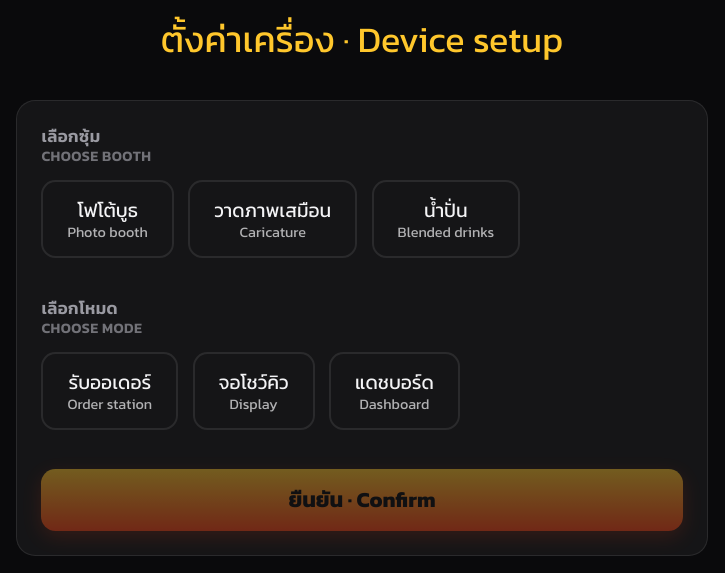
Test: confirm is disabled until a valid choice is made
Expected: the button "ยืนยัน · Confirm" is disabled, top-left (41, 469), bottom-right (683, 531)
Click the button "น้ำปั่น Blended drinks" at (446, 219), box top-left (372, 180), bottom-right (520, 258)
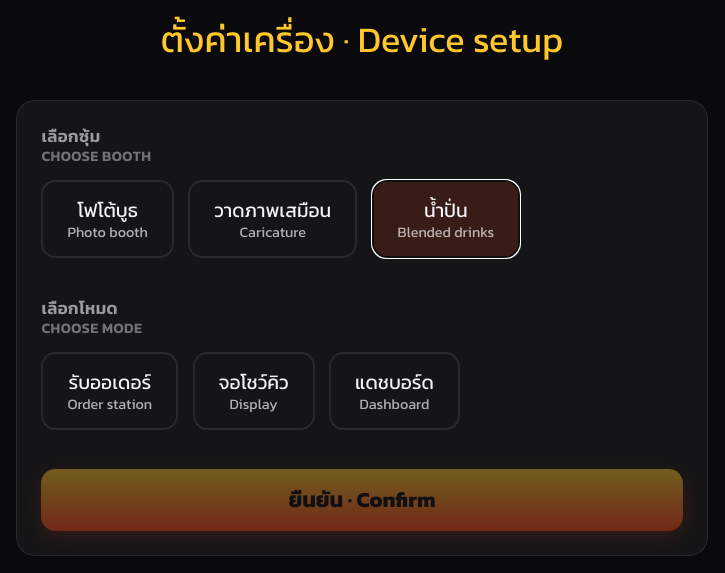
Click the button "จอโชว์คิว Display" at (254, 391), box top-left (193, 352), bottom-right (315, 430)
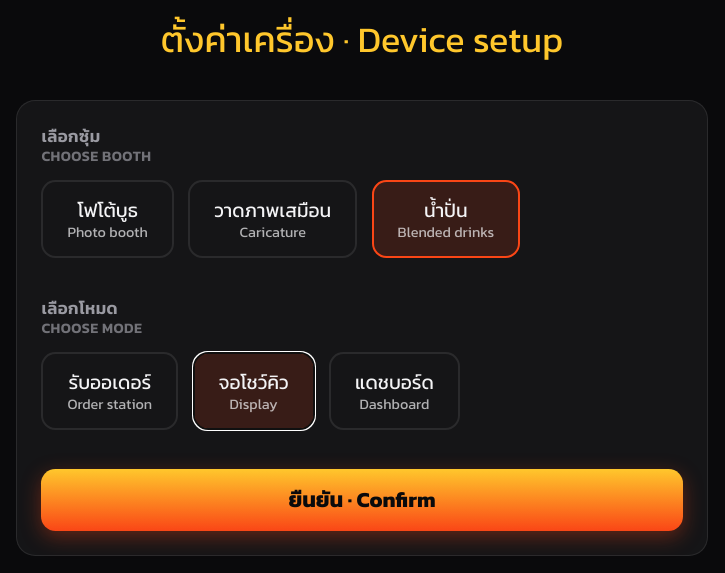
Expected: the button "ยืนยัน · Confirm" is enabled, top-left (41, 469), bottom-right (683, 531)
